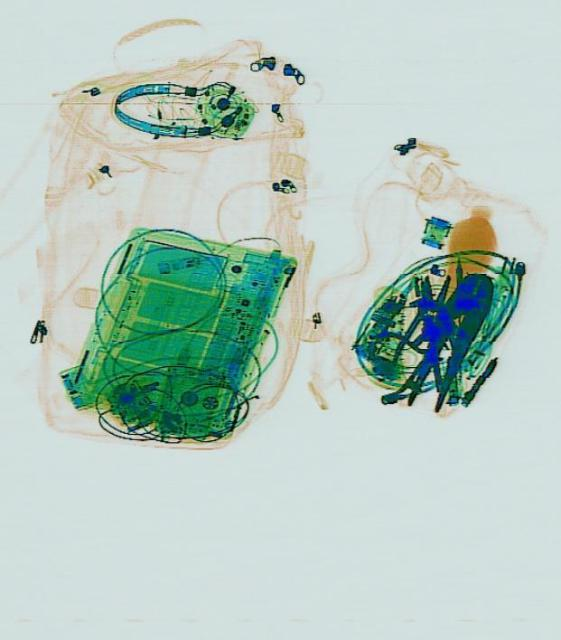Pliers: (395, 261, 501, 419), (387, 264, 461, 376), (364, 322, 448, 402)
